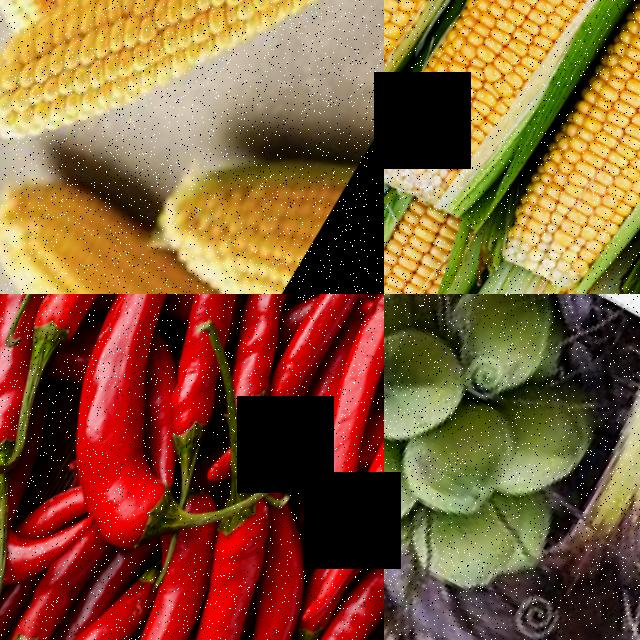chilli: (23, 349, 229, 555), (289, 294, 384, 620), (191, 294, 329, 429), (7, 294, 200, 383), (0, 518, 125, 640), (291, 495, 384, 640)
coconuts: (384, 294, 640, 623)
corn: (0, 0, 383, 225), (384, 0, 640, 228), (489, 0, 640, 294), (0, 158, 292, 294), (160, 123, 357, 294), (384, 0, 554, 154), (384, 193, 482, 294)
